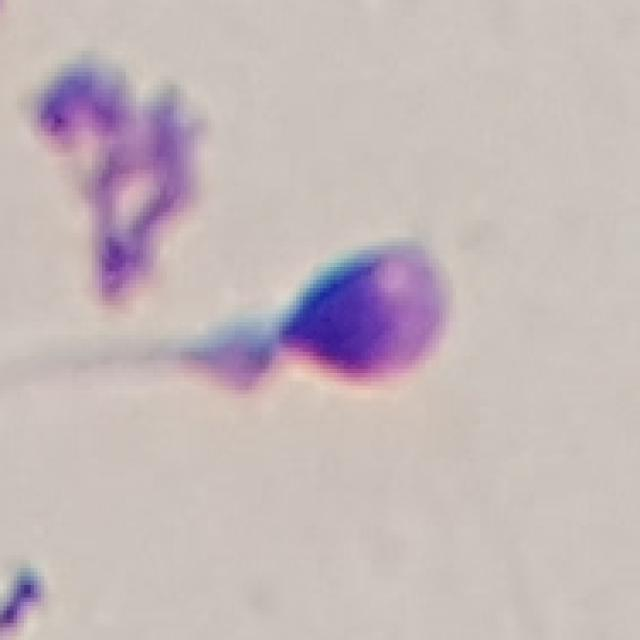normal sperm: (197, 240, 454, 392)
